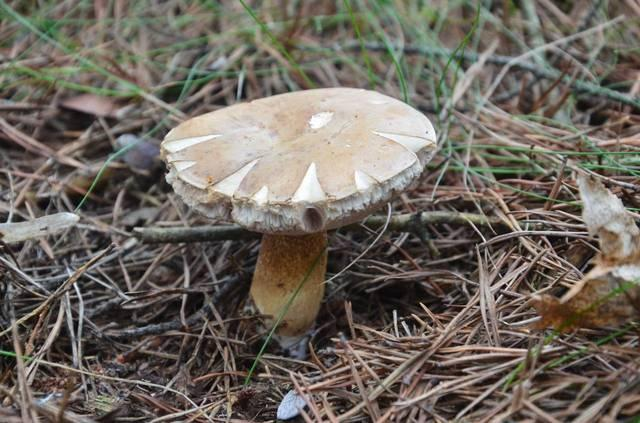Non-edible Mushroom: (158, 85, 438, 359)
